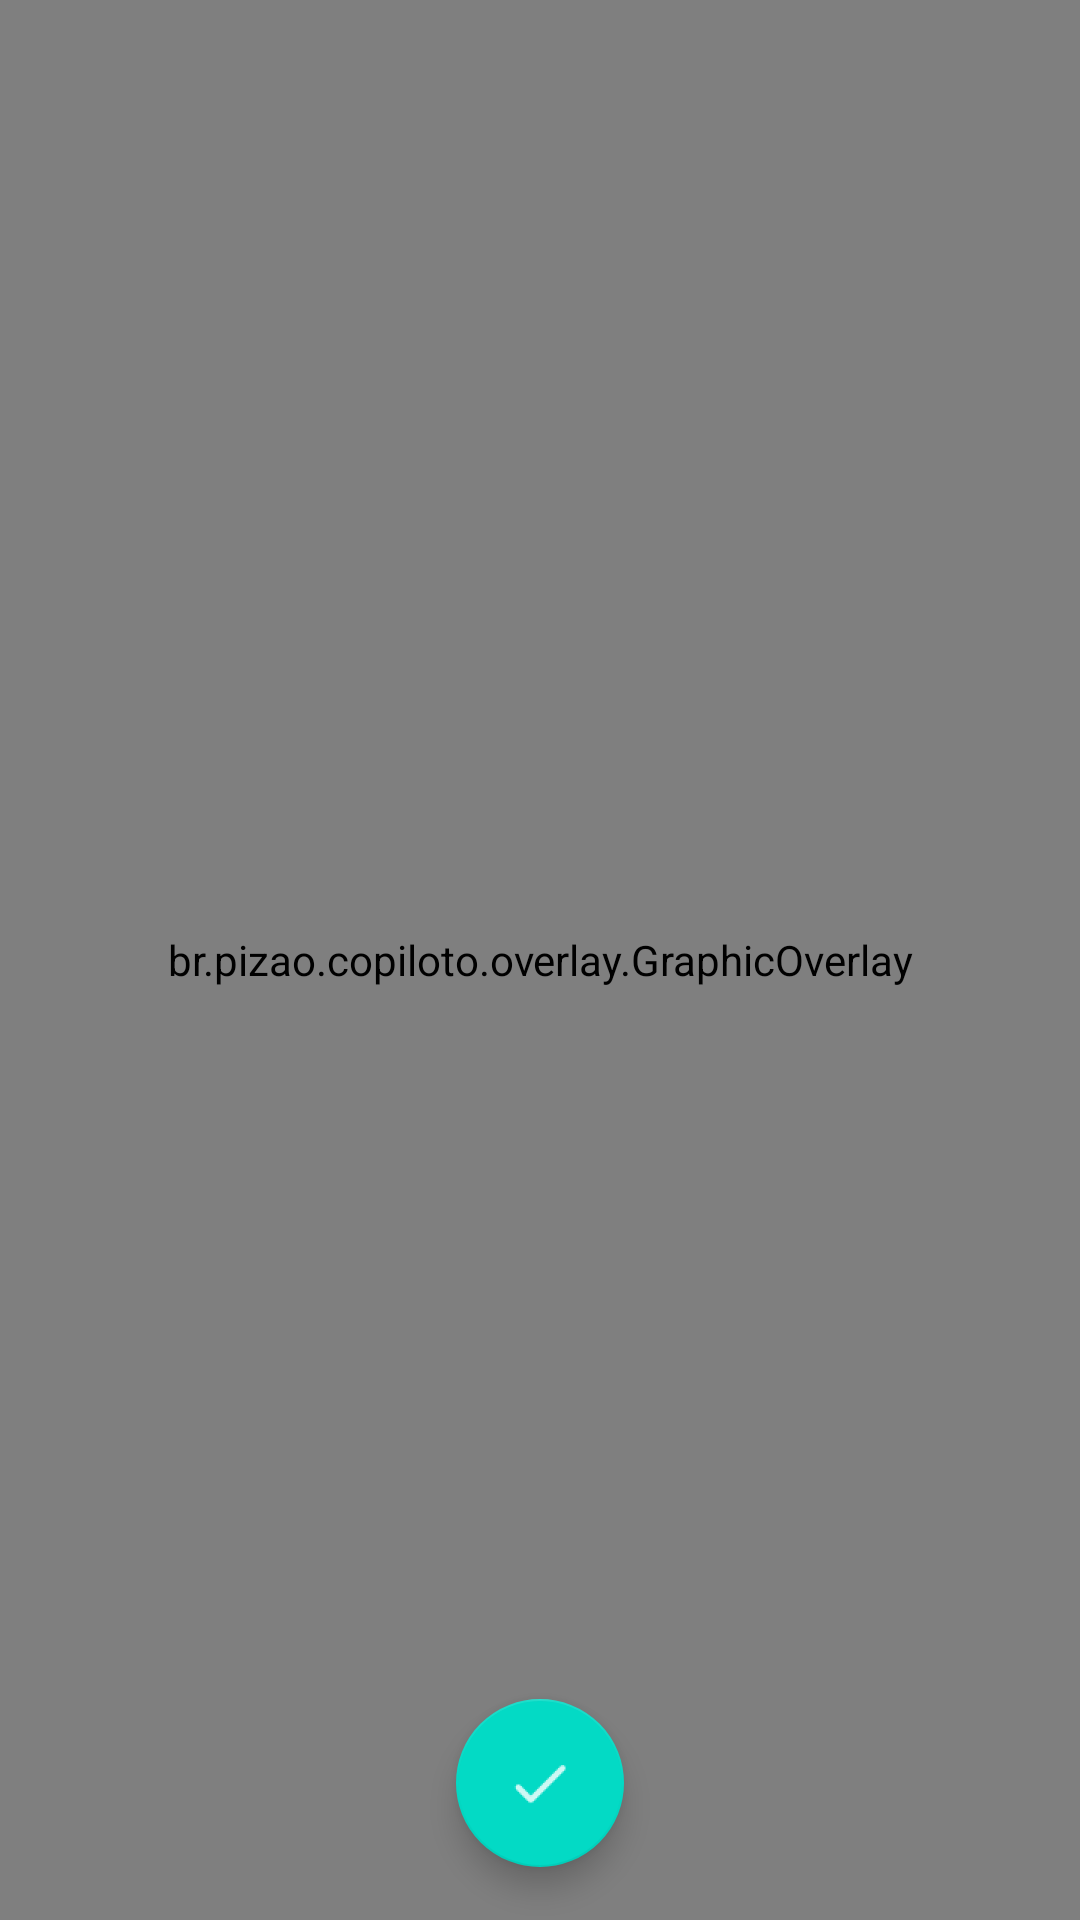

Screen size 1080*1920. Icon name, then its center in pixels as point (x, y):
done: point (540, 1783)
